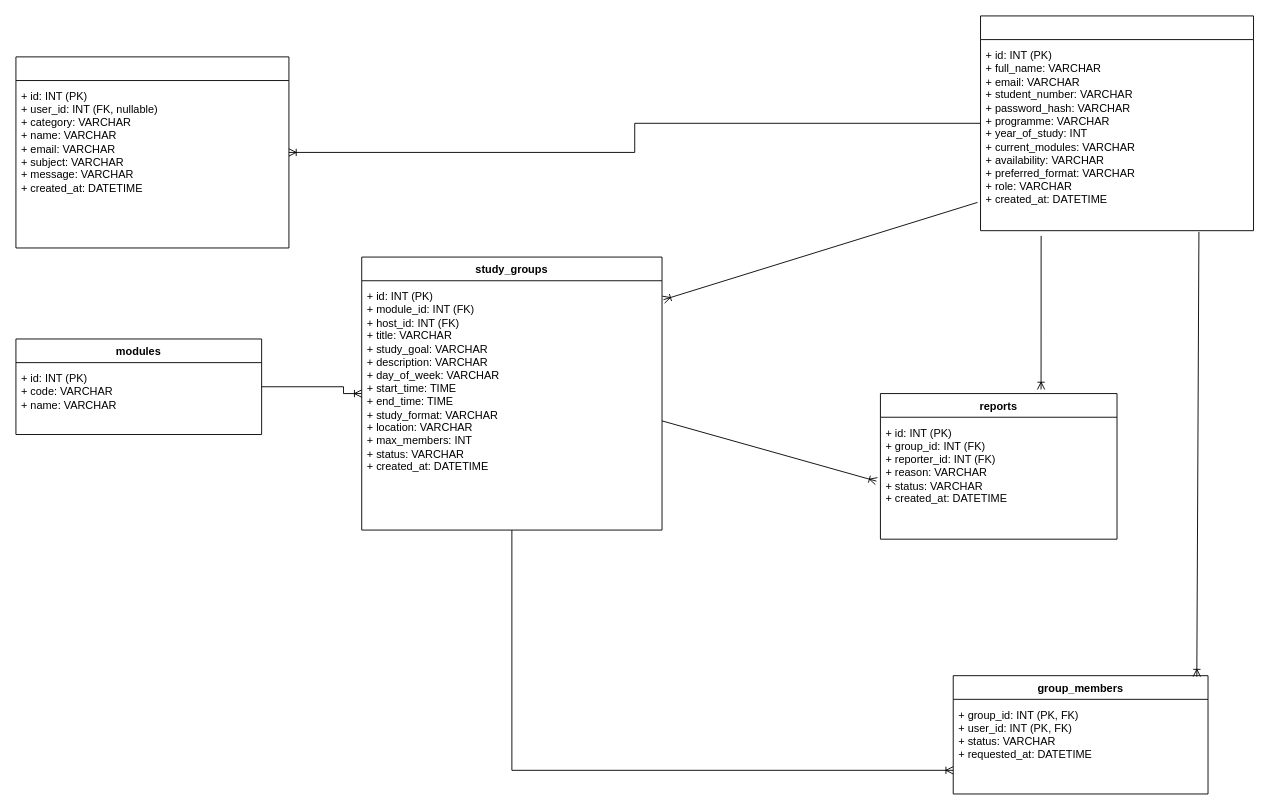
This 1269x810 diagram has some shape labels left out. Each missing label, with the box of its shape:
contact_messages: (15, 56, 289, 248)
users: (980, 15, 1254, 231)
